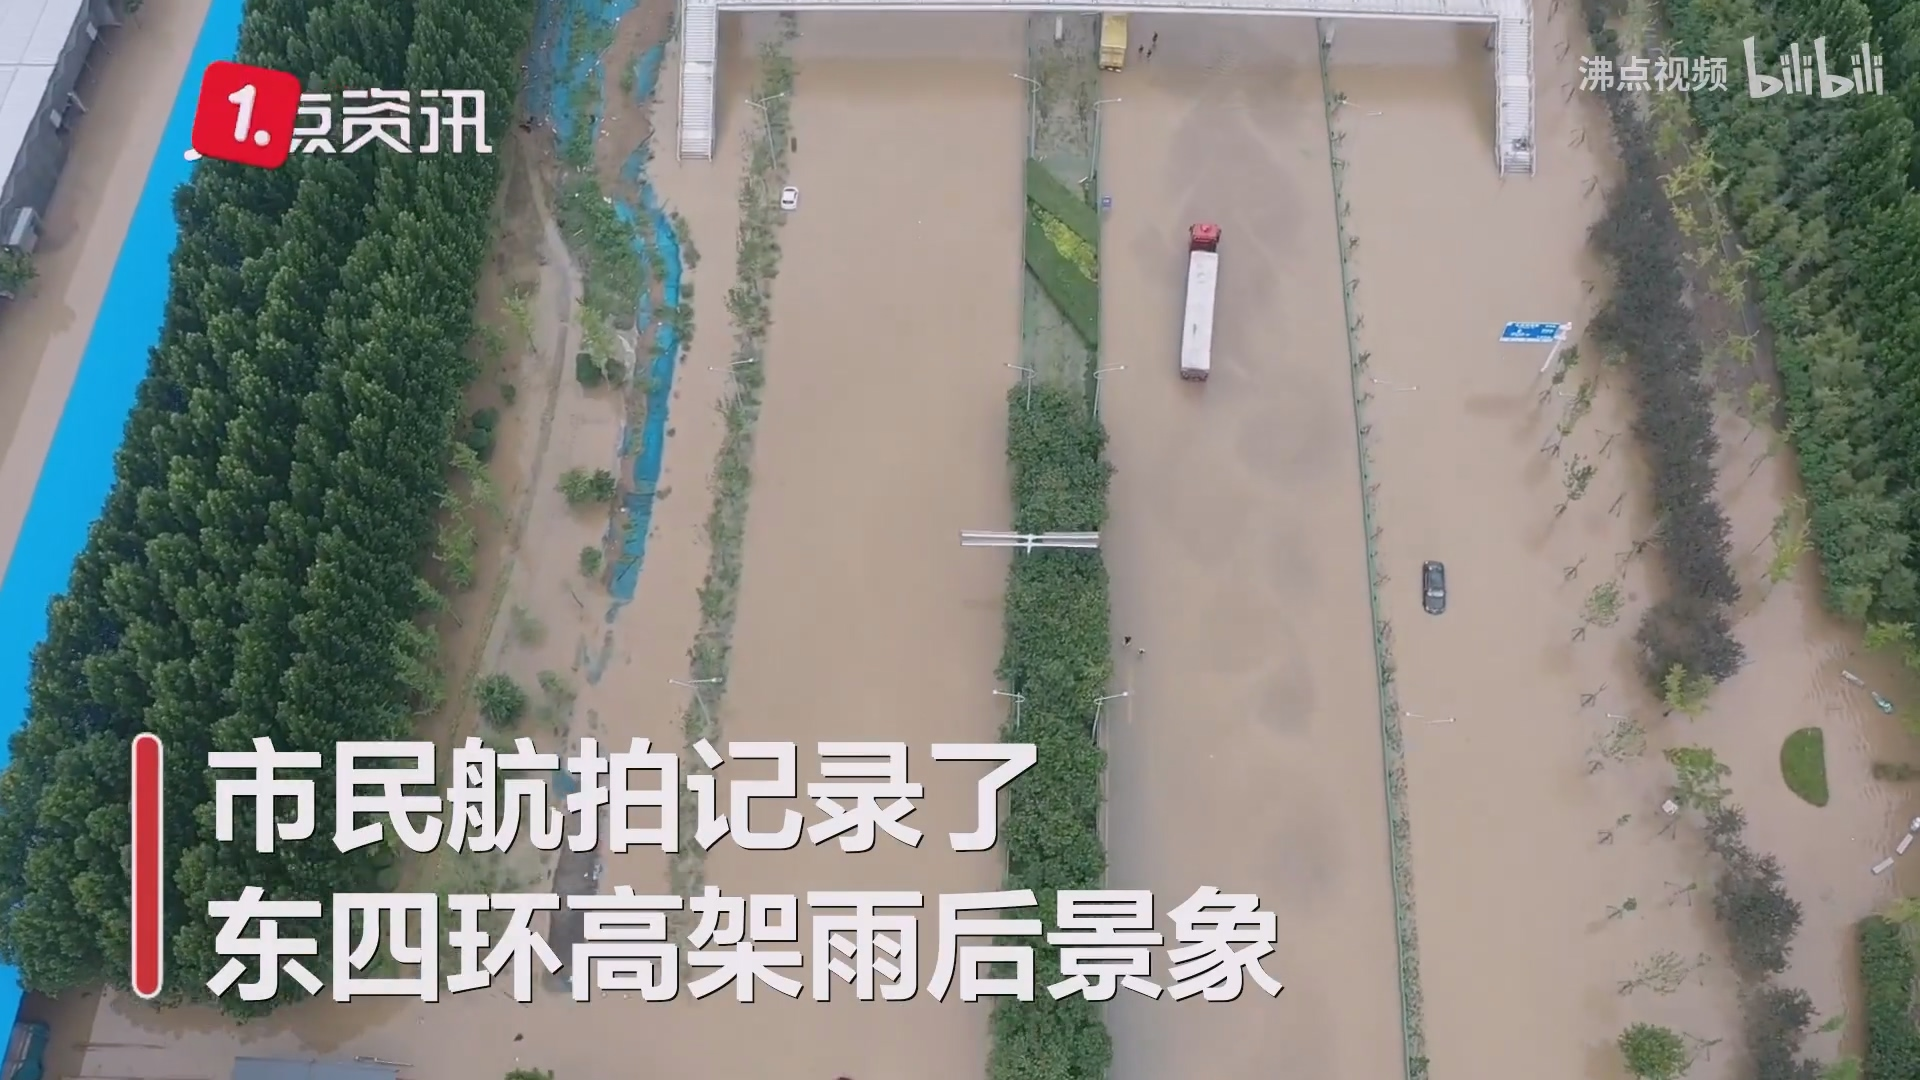puddle: (1089, 146, 1677, 878), (495, 125, 1035, 723)
